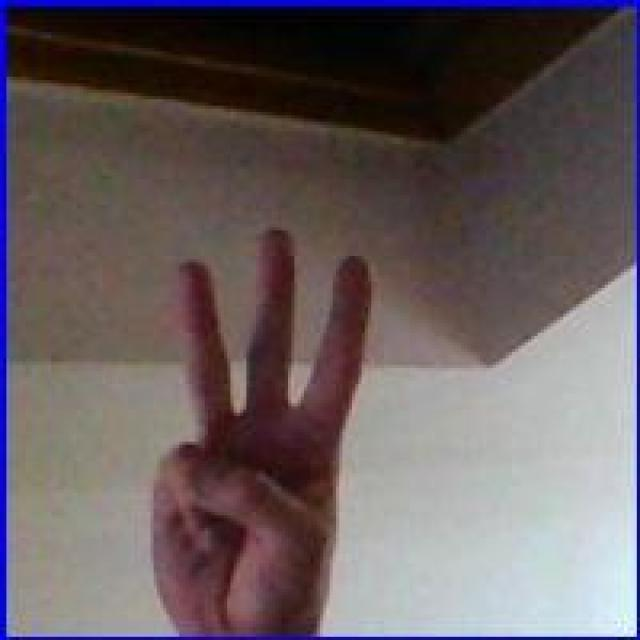W: (149, 221, 376, 634)
